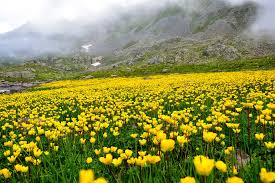flower: (6, 60, 275, 181)
mountain: (5, 1, 273, 65)
